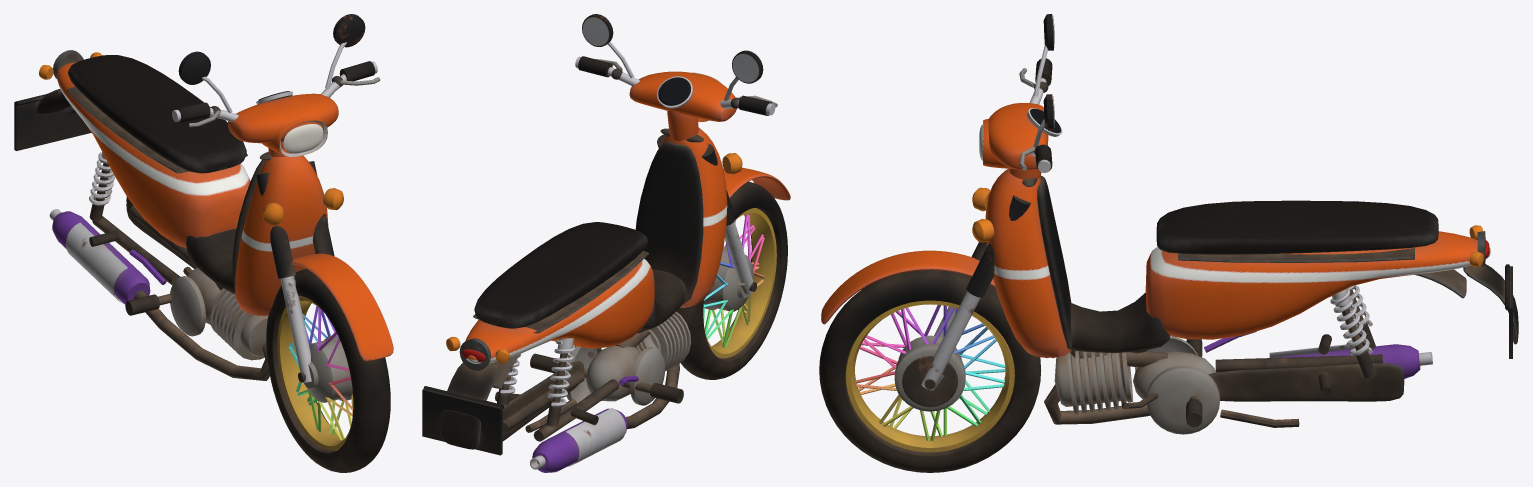
File: RacingMotoV2.fbx
3 renders of one model, left to right at view 1: azimuth 30°, elevation 25°; view 2: azimuth 150°, elevation 25°; view 3: azimuth 270°, elevation 25°, orthographic. The views are drawn at different scales.
Parts seen in each view (by area): view 1: RaceBody, RaceFront, RaceWheel; view 2: RaceBody, RaceWheel, RaceFront; view 3: RaceBody, RaceWheel, RaceFront.
Part boxes in pixels (x1=…): RaceBody: x1=14, y1=50, x2=343, y2=380; RaceFront: x1=172, y1=14, x2=393, y2=382; RaceWheel: x1=266, y1=269, x2=390, y2=472; RaceBody: x1=422, y1=128, x2=742, y2=472; RaceWheel: x1=676, y1=181, x2=787, y2=379; RaceFront: x1=575, y1=14, x2=790, y2=294; RaceBody: x1=972, y1=168, x2=1518, y2=434; RaceWheel: x1=819, y1=270, x2=1041, y2=472; RaceFront: x1=821, y1=14, x2=1062, y2=390.
Bounding box in the file's own units: 58.57 × 109 × 167.
3 materials, 3 textured.
